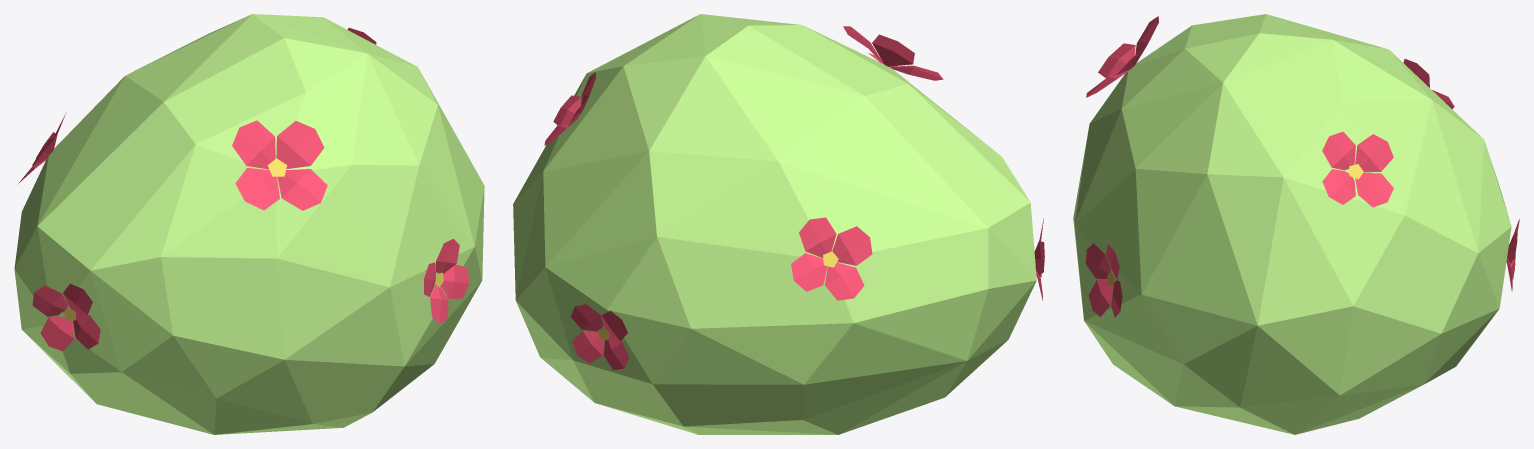
The model's file is FlowerBush_f_m_05.fbx.
3 renders of one model, left to right at view 1: azimuth 30°, elevation 25°; view 2: azimuth 150°, elevation 25°; view 3: azimuth 270°, elevation 25°, orthographic. The views are drawn at different scales.
Visible parts, largest first — view 1: FlowerBush_f_m_05; view 2: FlowerBush_f_m_05; view 3: FlowerBush_f_m_05.
Boxes of the visible parts, box(x1,y1,x2,y2) form: FlowerBush_f_m_05: box(14, 14, 484, 434); FlowerBush_f_m_05: box(513, 14, 1044, 434); FlowerBush_f_m_05: box(1073, 14, 1519, 434).
Size of the model in its own units: 197 by 149 by 162.
